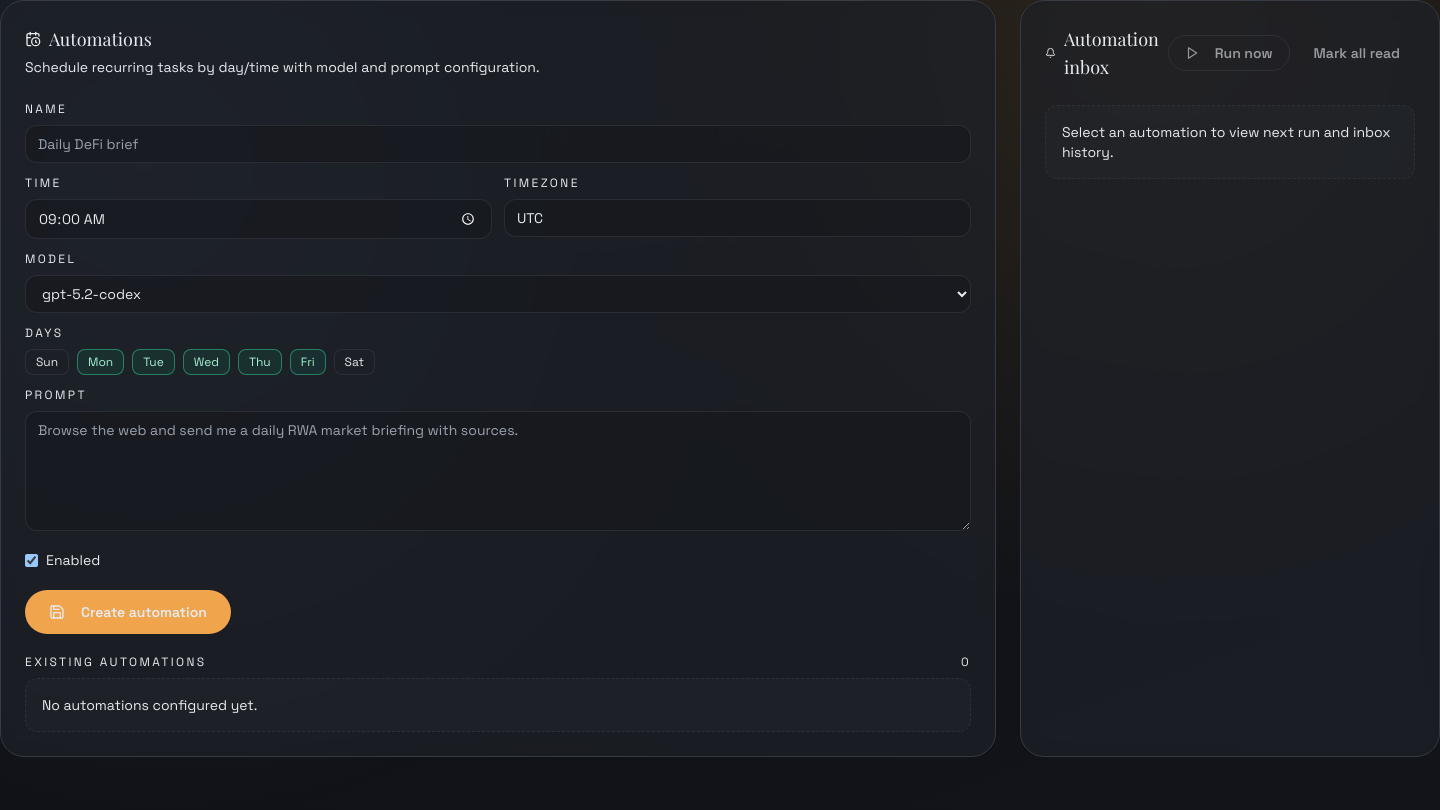
Test: AutomationsPanel › creates a new automation
The width and height of the screenshot is (1440, 810).
In the field with placeholder "Daily DeFi brief": coordinates (498, 144) [25,125,971,163], type "Morning research"
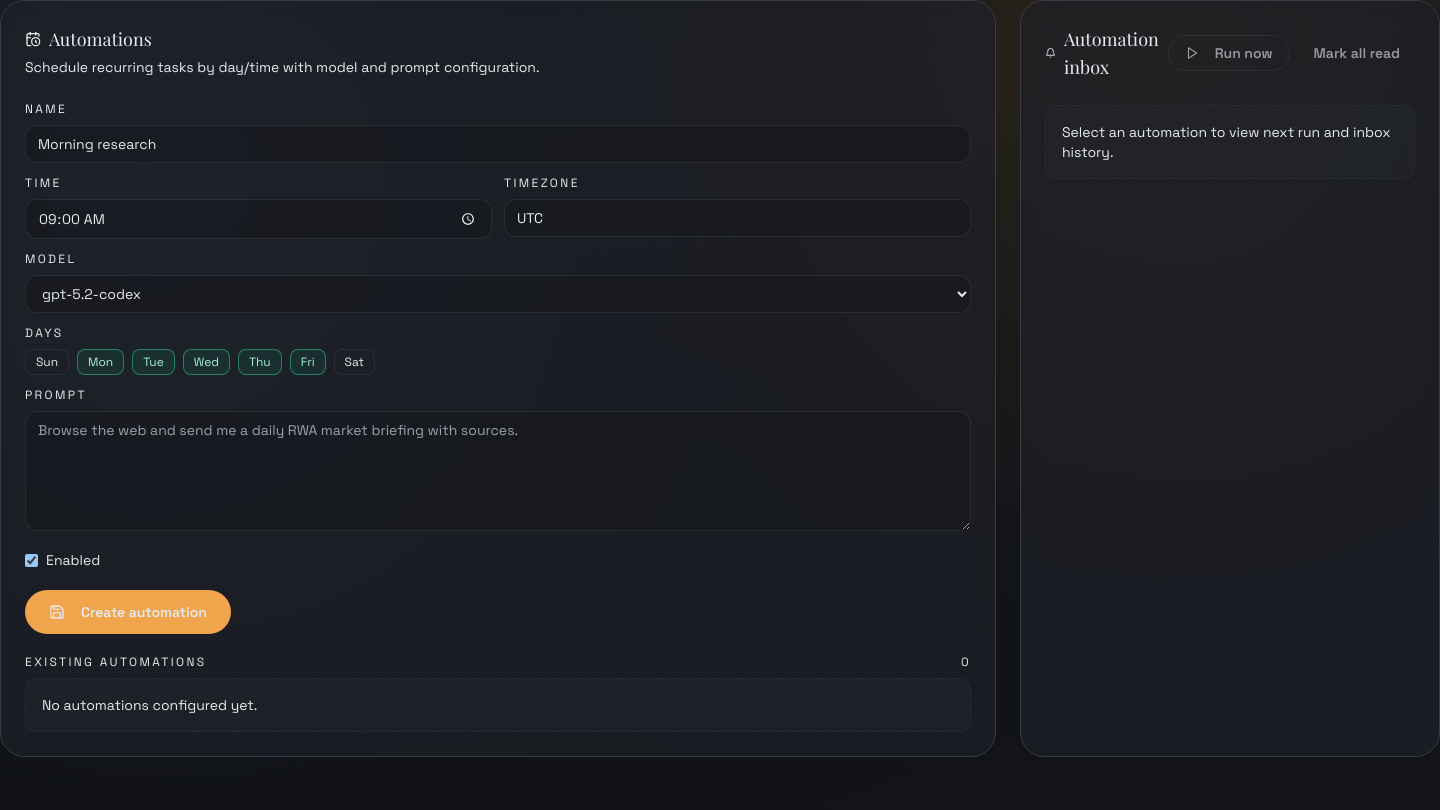
In the text box with placeholder "Browse the web and send me a daily RWA market briefing with sources.": coordinates (498, 471) [25,411,971,531], type "Summarize top DeFi and RWA news."
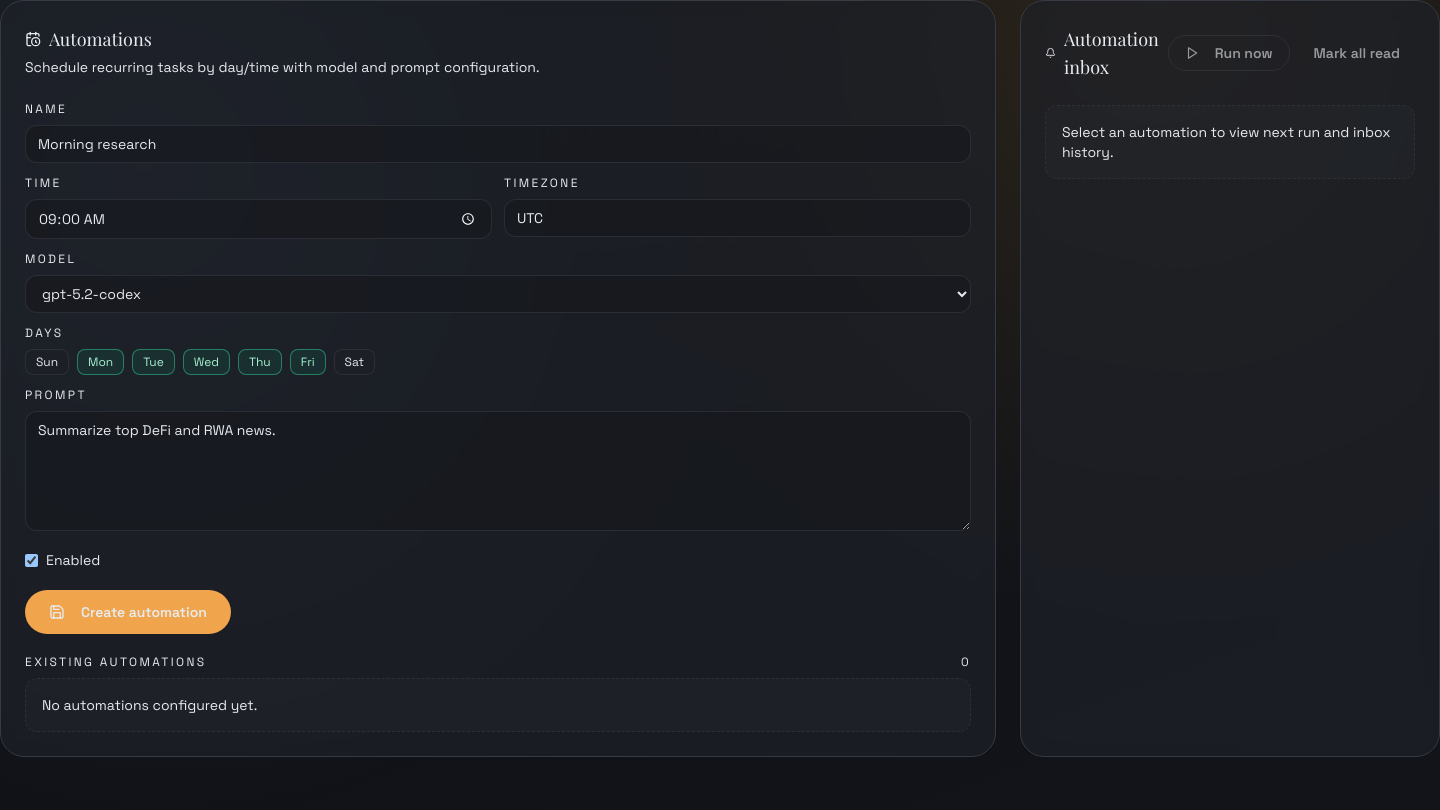
Click the button "Create automation": coordinates (128, 612) [25,590,231,634]
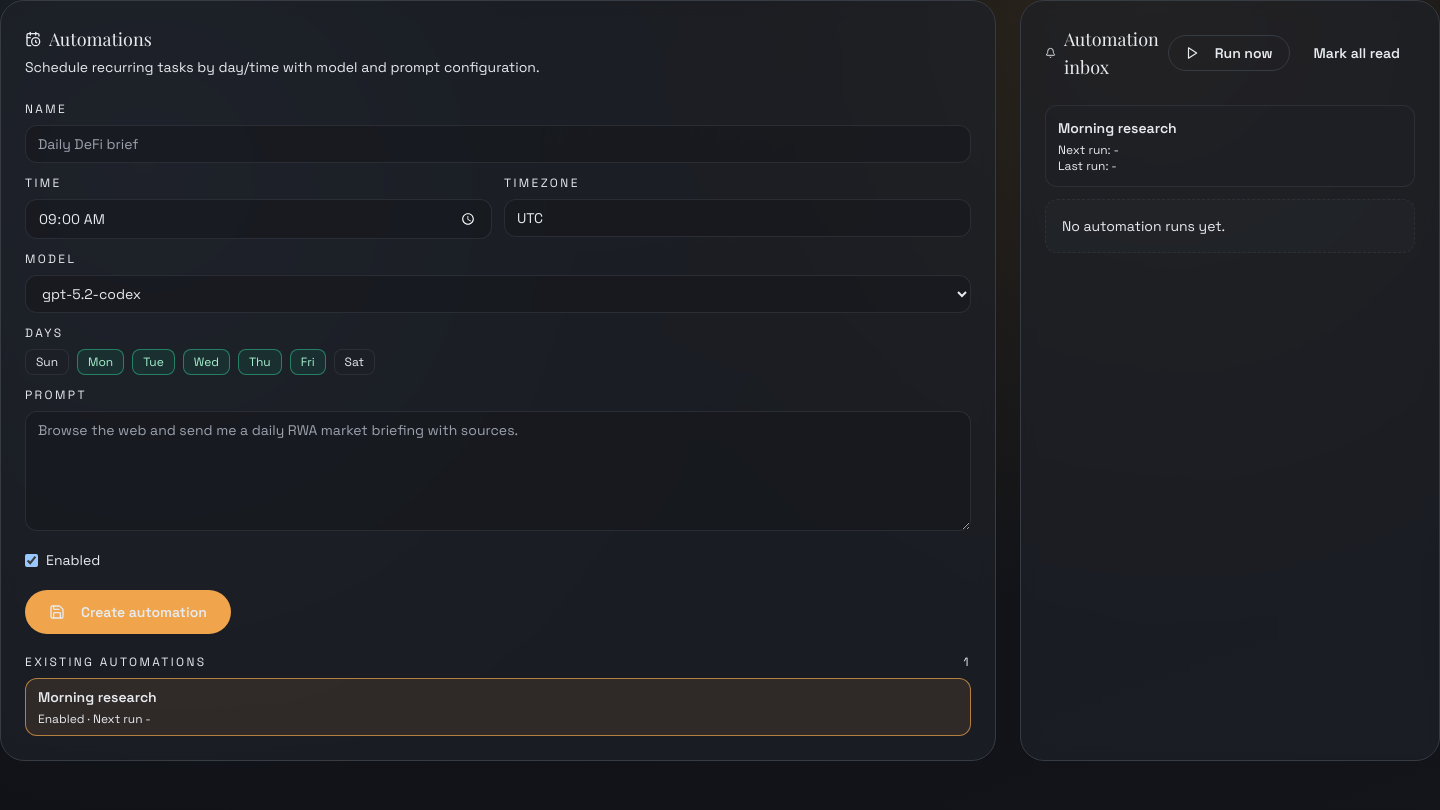
Result: the text "Morning research" below "Existing automations" is shown at [38,688,157,706]
